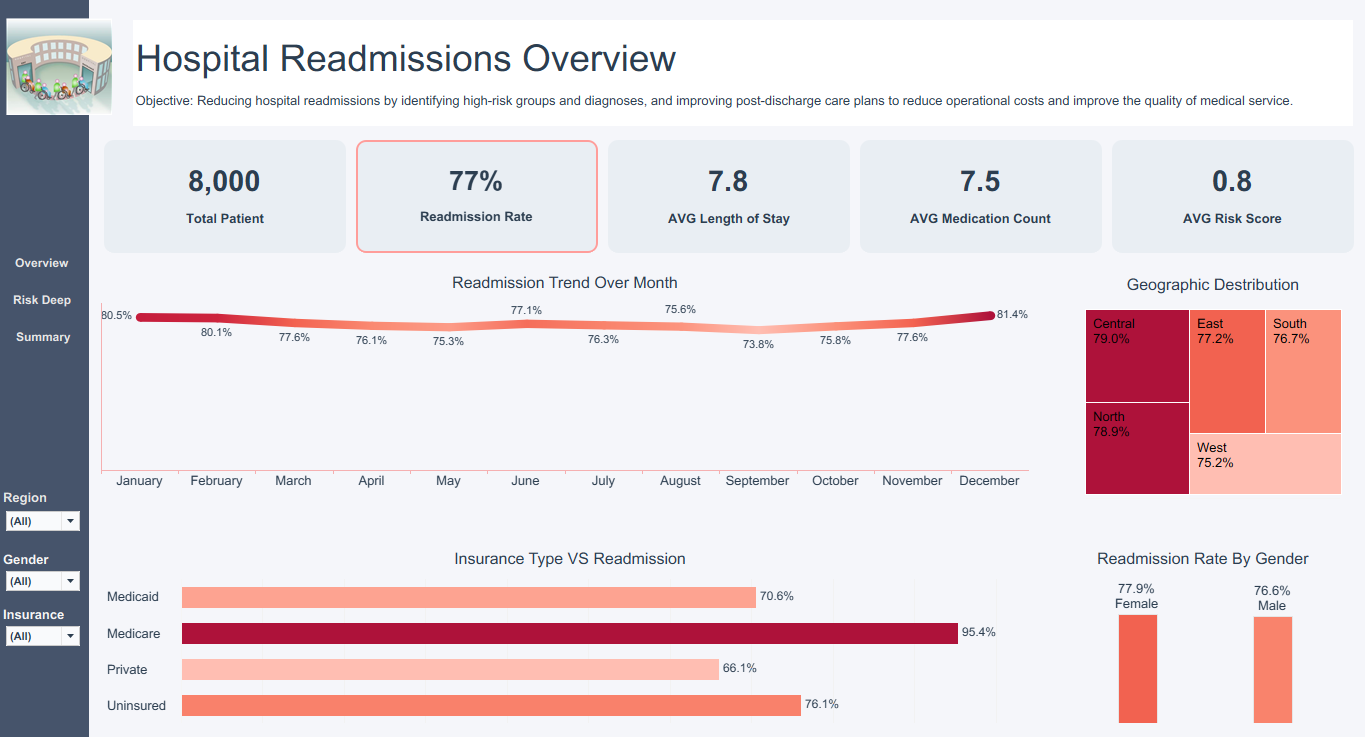

The page's visual inventory and layout, read from the dashboard file:
{"tool":"tableau","page":{"name":"Executive Overview","canvas":[1000,1000],"units":"permille","ordinal":1},"visuals":[{"type":"image","param":"C:/Users/Ali/Desktop/hospital_readmission/R.jpg","box":[4.3,16.6,77.9,149.5]},{"type":"text","box":[97,26.6,893.4,144.5]},{"type":"worksheet","title":"Total Patients","mark":"Text","box":[72.8,182.7,184.5,166.1]},{"type":"worksheet","title":"Readmission Rate %","mark":"Text","box":[257.3,182.7,184.5,166.1]},{"type":"worksheet","title":"Avg Length of Stay","mark":"Automatic","box":[441.8,182.7,184.5,166.1]},{"type":"worksheet","title":"Avg Medications Count","mark":"Automatic","box":[626.2,182.7,184.5,166.1]},{"type":"worksheet","title":"Avg Risk Score","mark":"Text","box":[810.7,182.7,184.5,166.1]},{"type":"dashboard-object","box":[1.9,332.2,58.2,49.8]},{"type":"worksheet","title":"Readmission Trend over Time/Season","mark":"Line","rows":["Calculation_0711937510887424"],"cols":["Calculation_0515950367760386"],"box":[73.6,365.4,679.6,307.3]},{"type":"worksheet","title":"Geographic Distribution","mark":"Automatic","box":[791.3,368.8,193.1,307.3]},{"type":"dashboard-object","box":[1.9,382.1,58.2,49.8]},{"type":"dashboard-object","box":[1.9,431.9,58.2,49.8]},{"type":"filter","title":"Avg Length of Stay","param":"[federated.1wjwu0t0112v8j16hmt021jyiweo].[none:region:nk]","box":[1.9,664.5,58.2,66.5]},{"type":"worksheet","title":"Insurance Type vs. Readmission","mark":"Automatic","rows":["insurance_type"],"cols":["Calculation_0711937510887424"],"box":[73.6,739.2,686.6,240.9]},{"type":"worksheet","title":"Gender ","mark":"Bar","rows":["Calculation_0711937510887424"],"cols":["gender"],"box":[783.2,739.2,197.6,240.9]},{"type":"filter","title":"Insurance Type vs. Readmission","param":"[federated.1wjwu0t0112v8j16hmt021jyiweo].[Action (Gender)]","box":[1.9,747.5,58.2,66.5]},{"type":"filter","title":"Insurance Type vs. Readmission","param":"[federated.1wjwu0t0112v8j16hmt021jyiweo].[none:insurance_type:nk]","box":[1.9,822.3,58.2,66.5]}]}

Visuals, with their boxes on the dashboard's canvas, which has no fixed pixel size, in thousandths of its width and height (x1, y1, x2, y2). These are canvas units, not pixel positions in the 1365x737 screenshot, which may show the page scaled, cropped or inside an application window:
image: [4, 17, 82, 166]
text: [97, 27, 990, 171]
"Total Patients" worksheet (Text marks): [73, 183, 257, 349]
"Readmission Rate %" worksheet (Text marks): [257, 183, 442, 349]
"Avg Length of Stay" worksheet: [442, 183, 626, 349]
"Avg Medications Count" worksheet: [626, 183, 811, 349]
"Avg Risk Score" worksheet (Text marks): [811, 183, 995, 349]
dashboard-object: [2, 332, 60, 382]
"Readmission Trend over Time/Season" worksheet (Line marks): [74, 365, 753, 673]
"Geographic Distribution" worksheet: [791, 369, 984, 676]
dashboard-object: [2, 382, 60, 432]
dashboard-object: [2, 432, 60, 482]
"Avg Length of Stay" filter: [2, 664, 60, 731]
"Insurance Type vs. Readmission" worksheet: [74, 739, 760, 980]
"Gender " worksheet (Bar marks): [783, 739, 981, 980]
"Insurance Type vs. Readmission" filter: [2, 748, 60, 814]
"Insurance Type vs. Readmission" filter: [2, 822, 60, 889]
